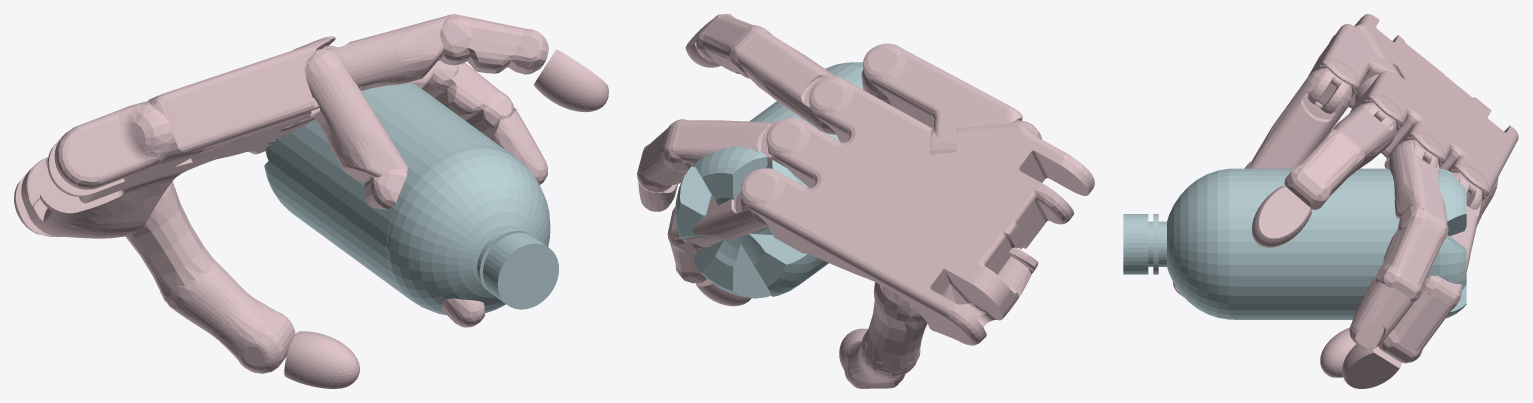
The model's file is grasp_2.glb.
The picture shows the model from 3 angles, left to right: view 1: azimuth 30°, elevation 25°; view 2: azimuth 150°, elevation 25°; view 3: azimuth 270°, elevation 25°; orthographic projection. The views are drawn at different scales.
Parts seen in each view (by area): view 1: world; view 2: world; view 3: world.
Part boxes in pixels (x1,y1,x2,y2): world: [14, 14, 608, 388]; world: [637, 14, 1094, 388]; world: [1123, 14, 1518, 388].
Bounding box in the file's own units: 0.1939 × 0.1317 × 0.1572.
